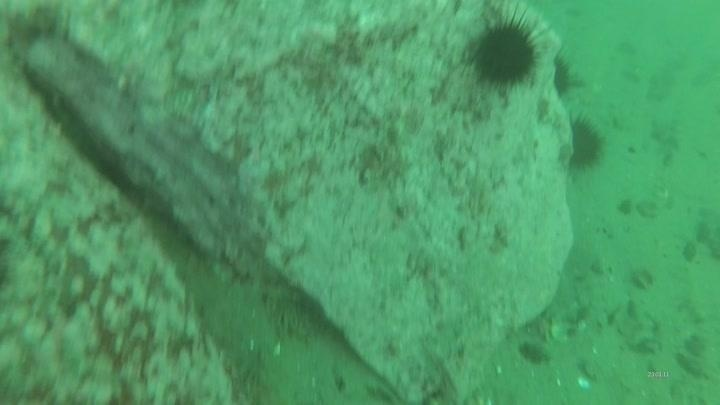echinus: (465, 14, 545, 92), (564, 113, 607, 173), (549, 52, 578, 100)
